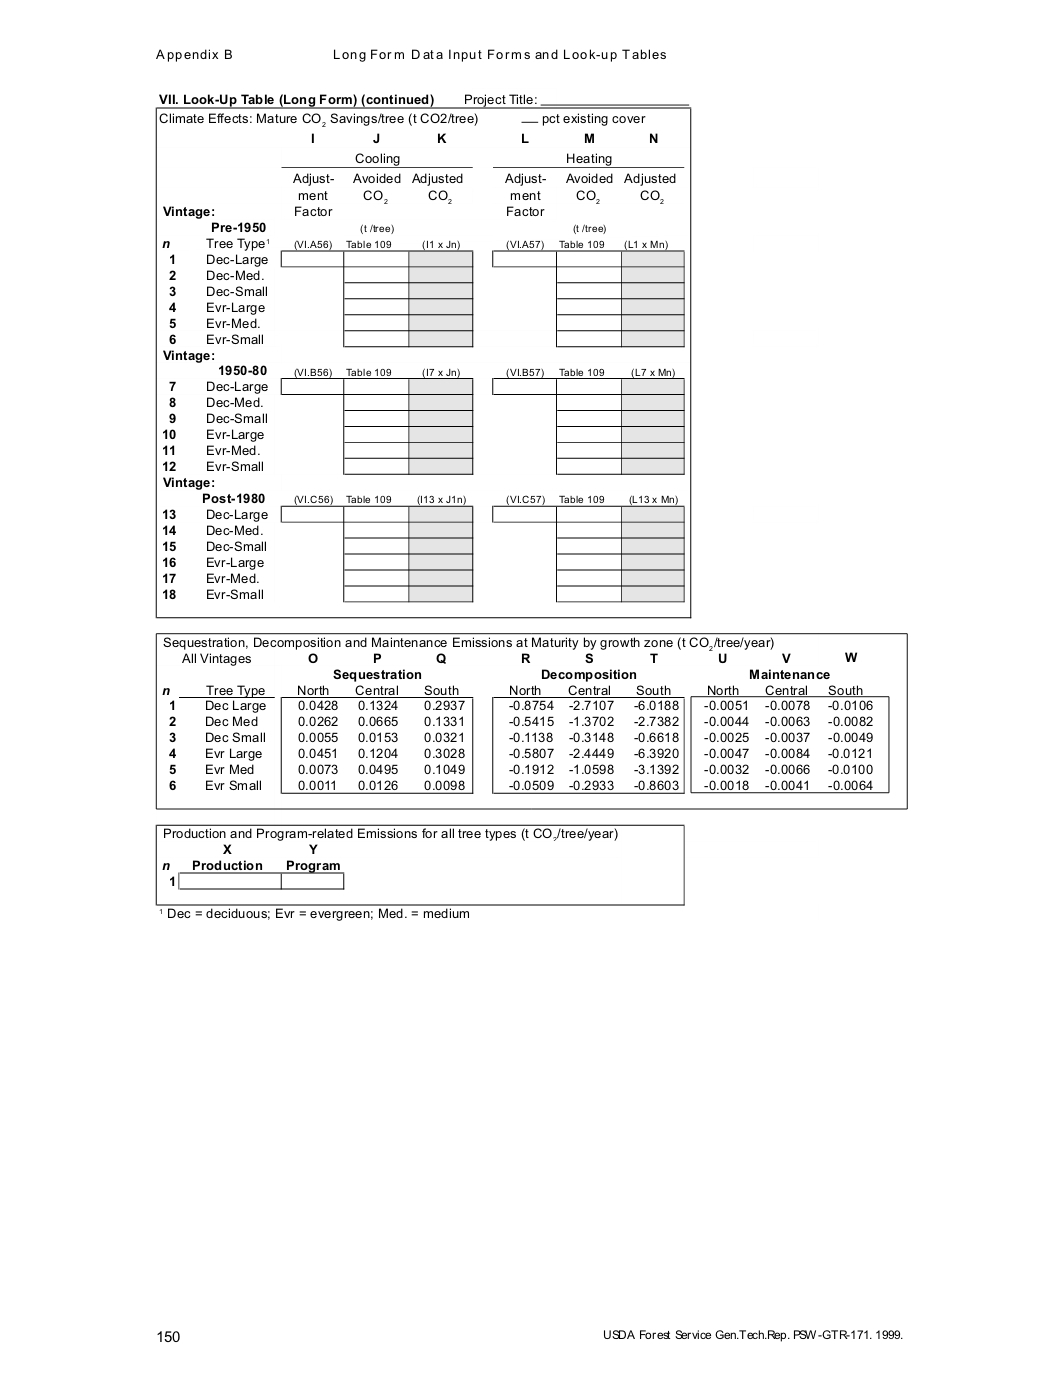Table: (155, 94, 691, 619), (155, 633, 907, 809), (155, 824, 684, 921)
